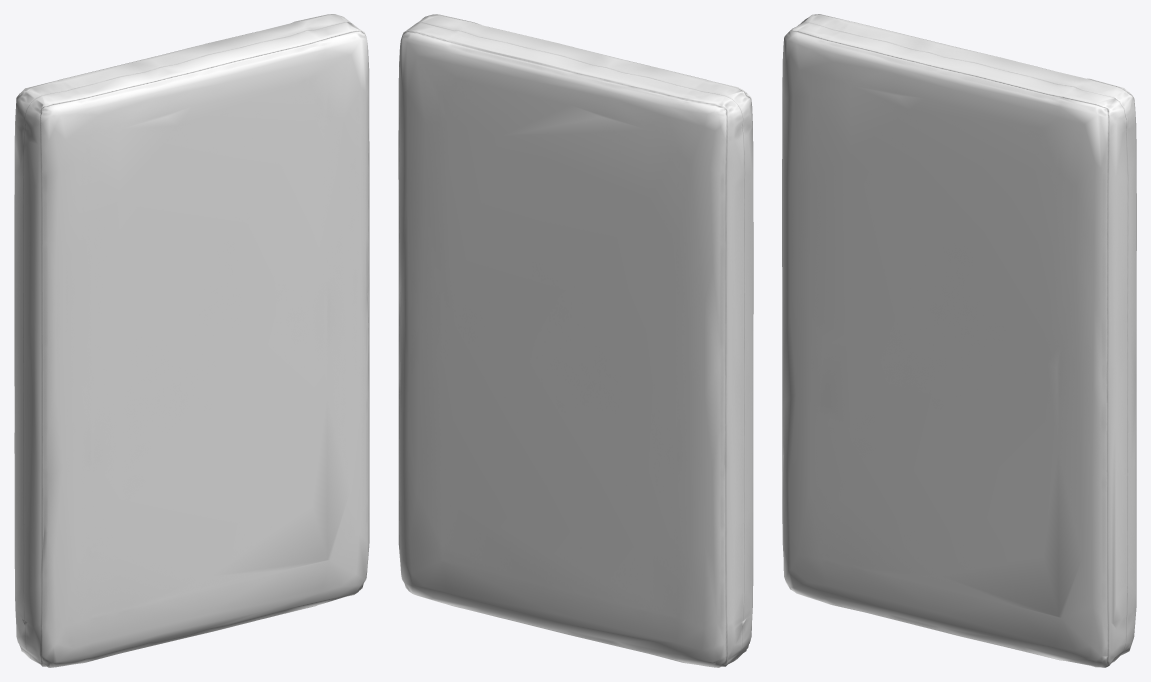
Rendered from BedMattress_13_BedMattress_13_1.obj.
3 renders of one model, left to right at view 1: azimuth 30°, elevation 25°; view 2: azimuth 150°, elevation 25°; view 3: azimuth 330°, elevation 25°, orthographic.
Parts seen in each view (by area): view 1: BedMattress_13; view 2: BedMattress_13; view 3: BedMattress_13.
Boxes of the visible parts, bbox=[...] form: BedMattress_13: bbox=[14, 14, 369, 667]; BedMattress_13: bbox=[398, 14, 753, 667]; BedMattress_13: bbox=[782, 14, 1136, 667].
Size of the model in its own units: 1.23 by 1.99 by 0.2315.
